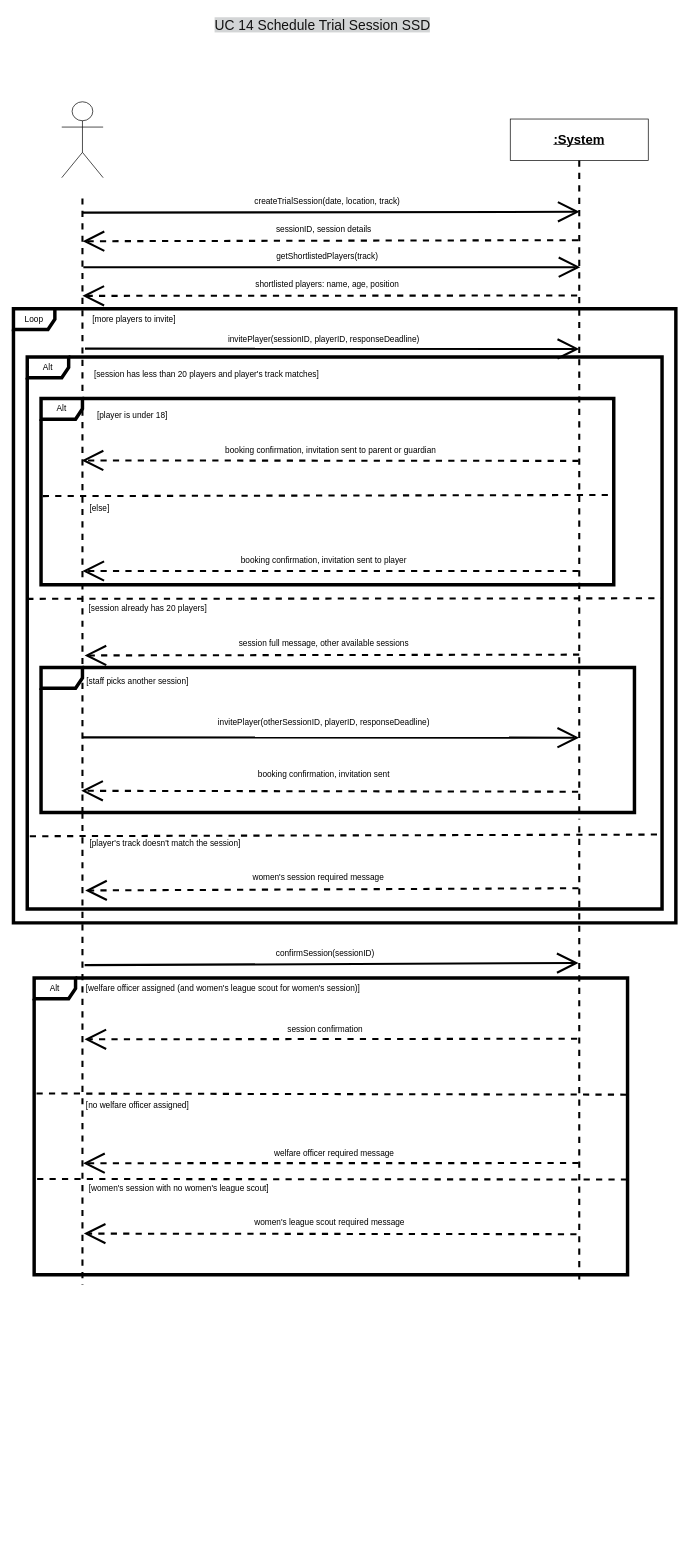
Image size: 689x1555. Some labels were removed from this diagram. The shapes that lost their labels are listed below. From the top down, each one's box as (x1, y1, x2, y2) in pixels, then its label:
(61, 101, 103, 178): Trial Coordination Staff
(39, 666, 636, 814): Opt
